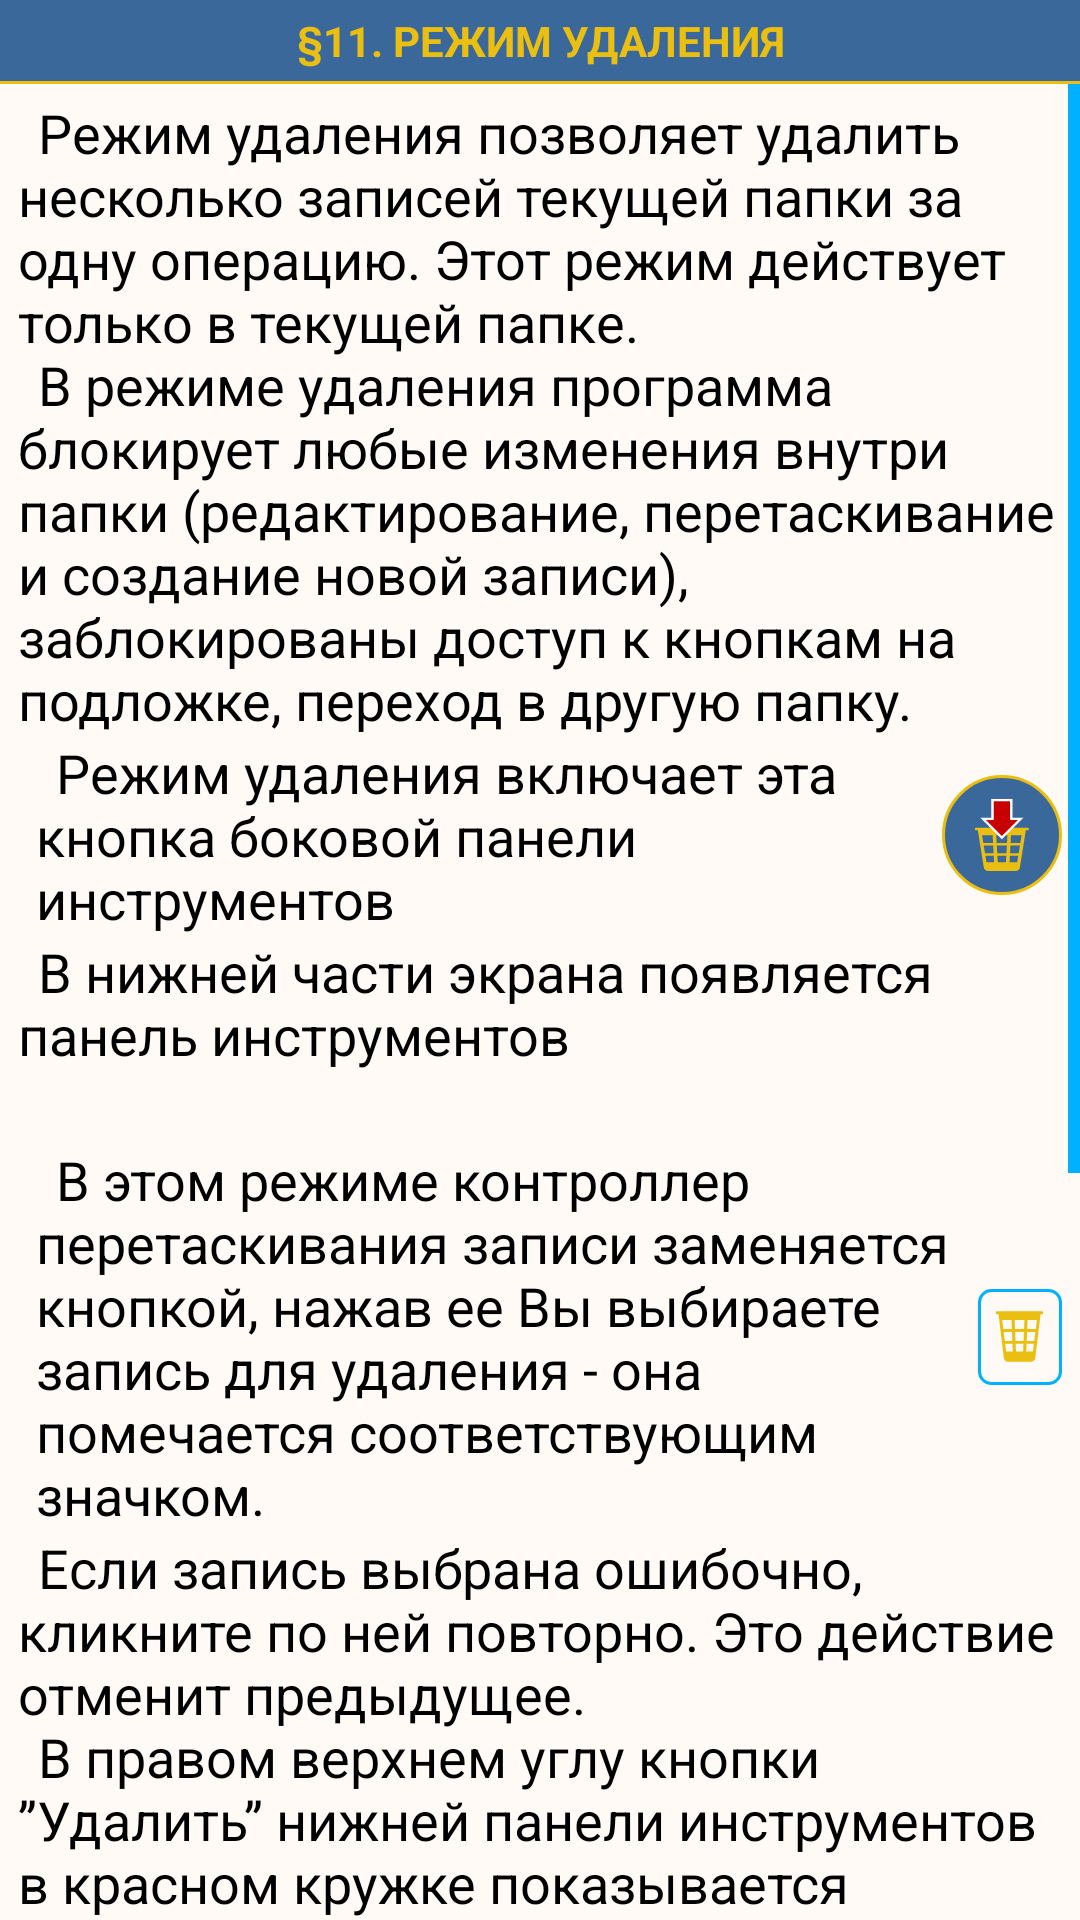

Screen size 1080×1920. Icon name, then its box in pixels as (x1, y1, x2, y2):
basket: (978, 1289, 1062, 1385)
del mode yell: (942, 775, 1062, 895)
